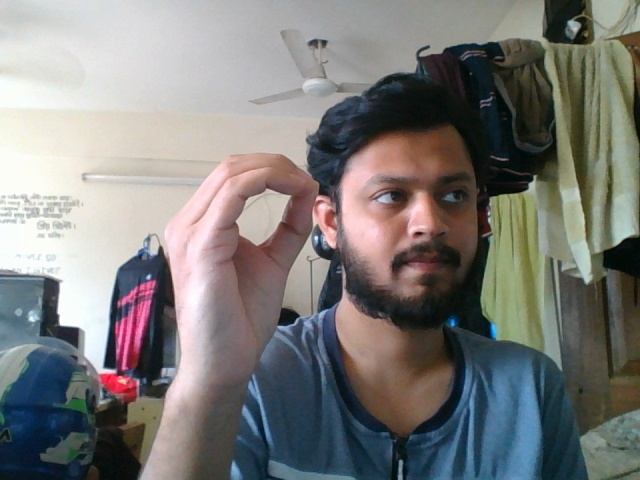oo: (155, 147, 325, 408)
